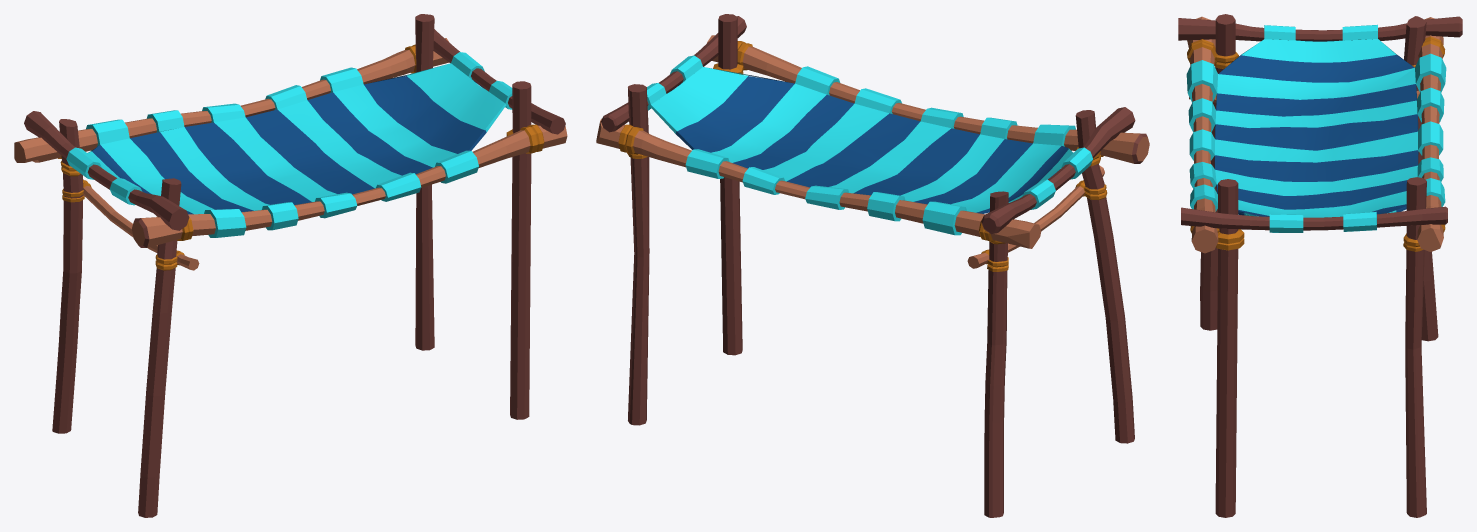
The model's file is Canopy 04.fbx.
3 views of the same model, side by side, from view 1: azimuth 30°, elevation 25°; view 2: azimuth 150°, elevation 25°; view 3: azimuth 270°, elevation 25° (orthographic).
Visible parts, largest first — view 1: Canopy 04; view 2: Canopy 04; view 3: Canopy 04.
Boxes of the visible parts, x1,y1,x2,y2 form: Canopy 04: (14, 14, 567, 517); Canopy 04: (596, 14, 1149, 517); Canopy 04: (1178, 14, 1462, 517).
Bounding box in the file's own units: 414 × 303 × 235.
